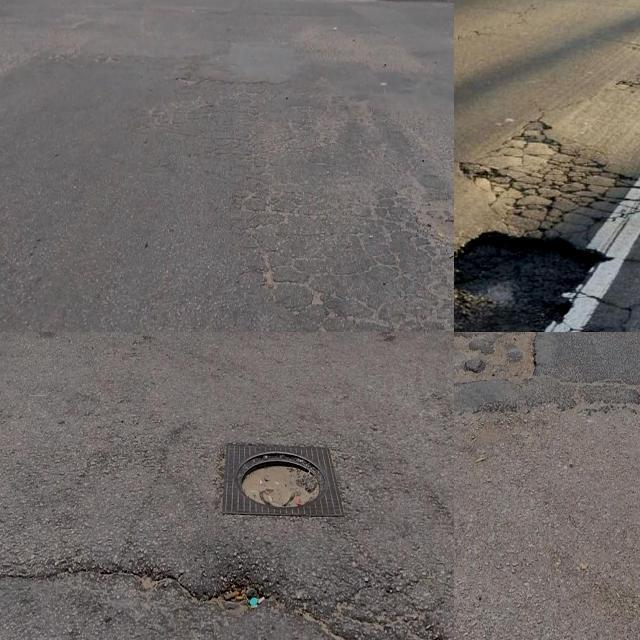Pothole: (454, 233, 613, 332), (236, 453, 327, 513), (476, 332, 541, 387), (454, 332, 479, 389), (423, 214, 454, 244)
